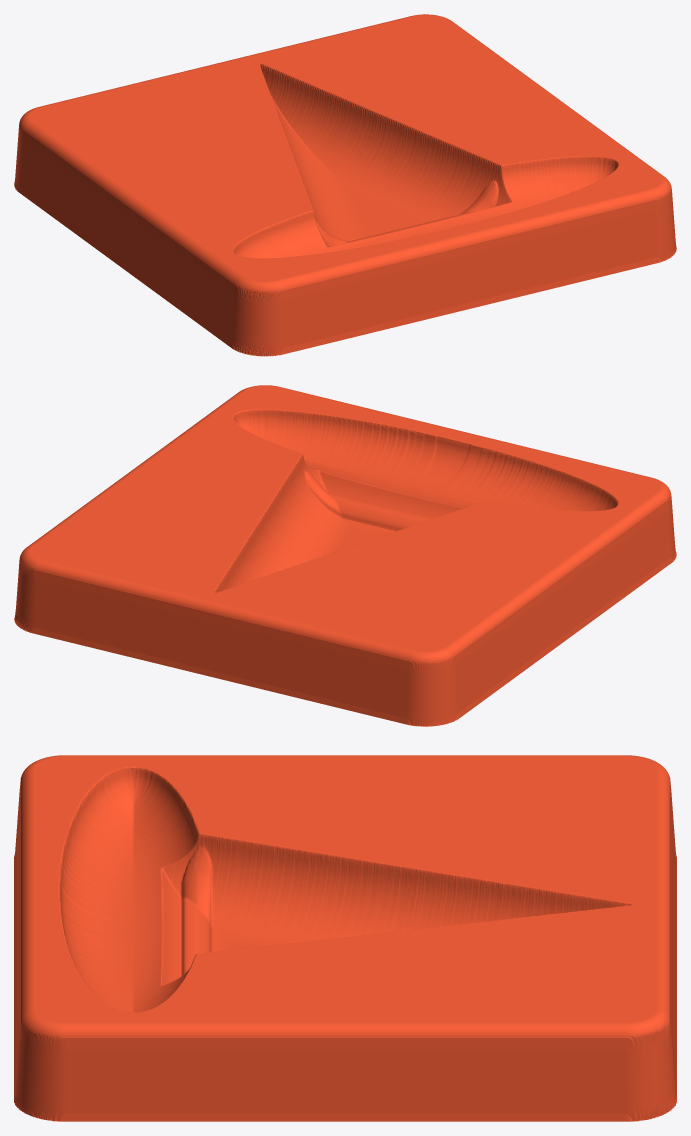
The model's file is mold.glb.
3 views of the same model, one above another, from view 1: azimuth 30°, elevation 25°; view 2: azimuth 150°, elevation 25°; view 3: azimuth 270°, elevation 25° (orthographic). The views are drawn at different scales.
Visible parts, largest first — view 1: geometry_0; view 2: geometry_0; view 3: geometry_0.
Part boxes in pixels (bbox=[...]): geometry_0: bbox=[14, 14, 676, 356]; geometry_0: bbox=[14, 385, 676, 726]; geometry_0: bbox=[14, 755, 676, 1121].
Size of the model in its own units: 0.1178 by 0.0175 by 0.1164.
